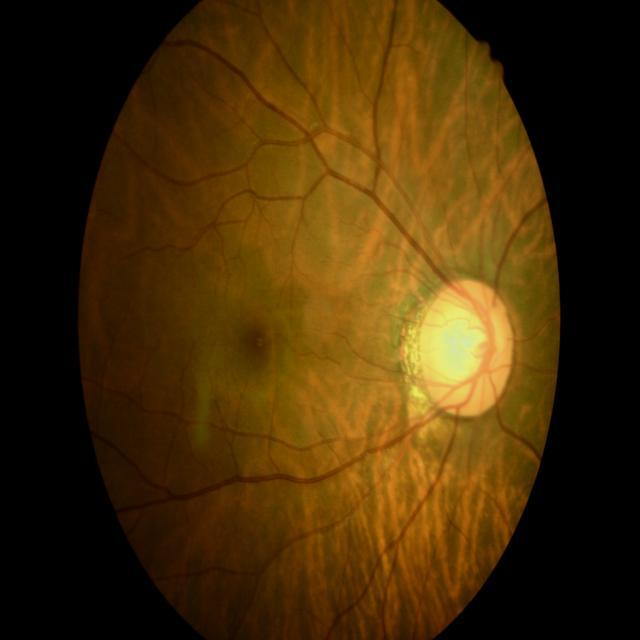cup: (432, 302, 494, 404)
disk: (418, 278, 514, 420)
